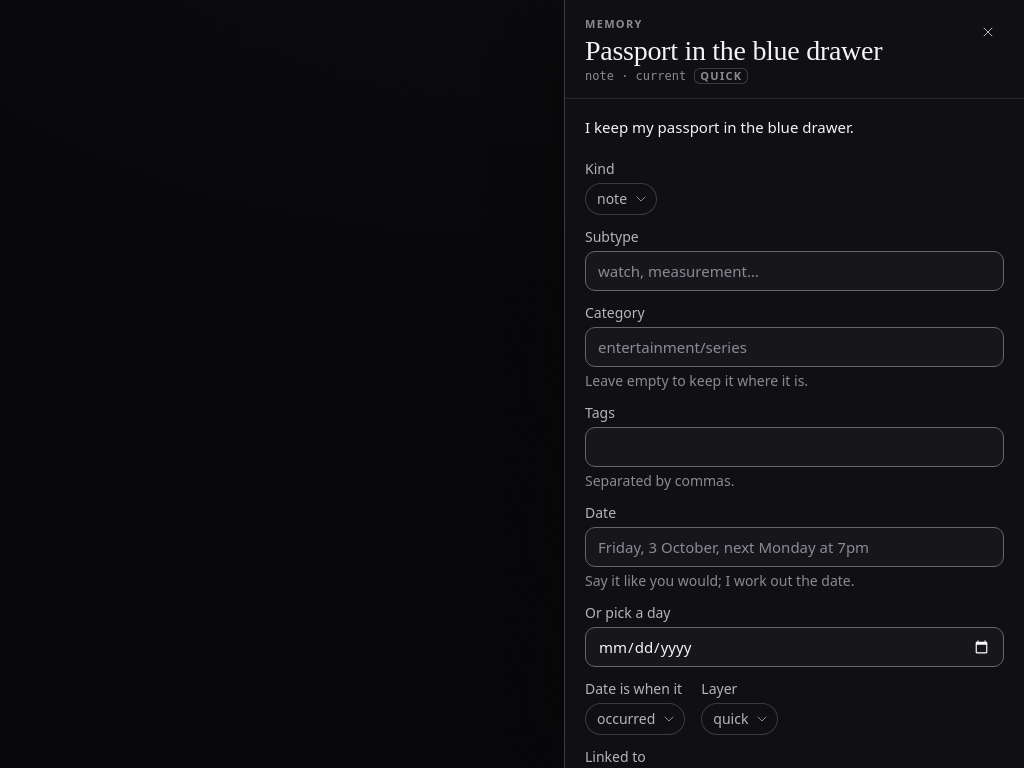
Scenario: the memory editor's Save › stays open and says why when the turn was stored as failed
Step 1. Type "documents" into the field labelled "Category" → [794, 347], box top-left (585, 327), bottom-right (1004, 367)
(page scrolled)
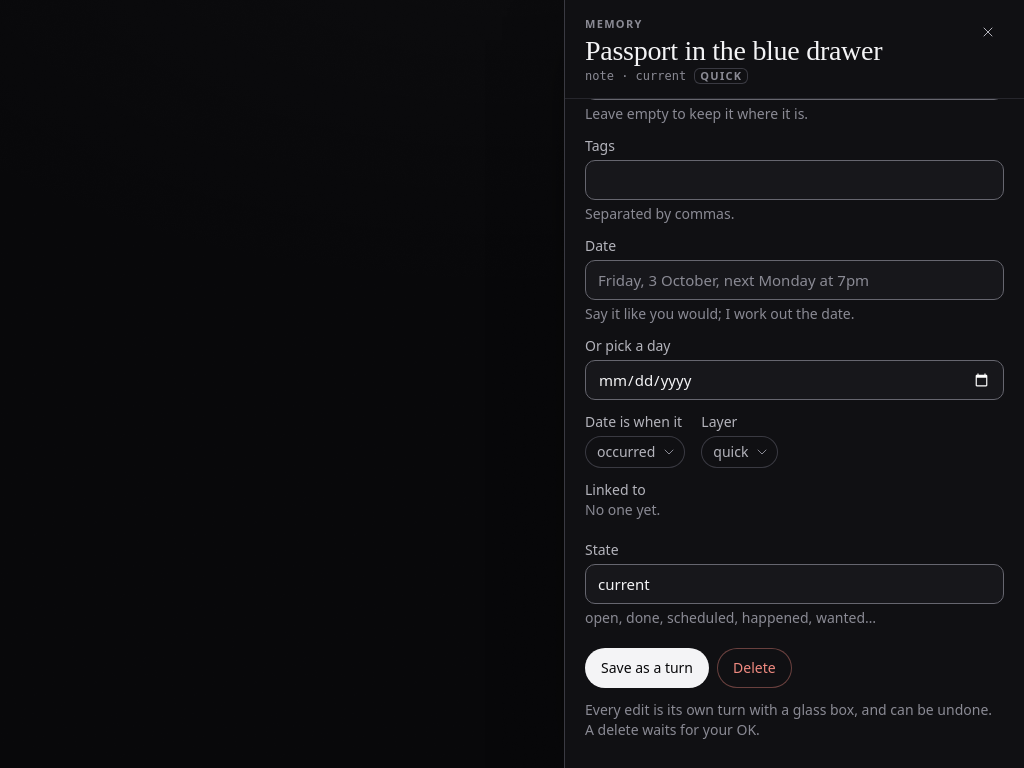
Step 2. Click the button with test id "edit-save" → [647, 668], box top-left (585, 648), bottom-right (709, 688)
(page scrolled)
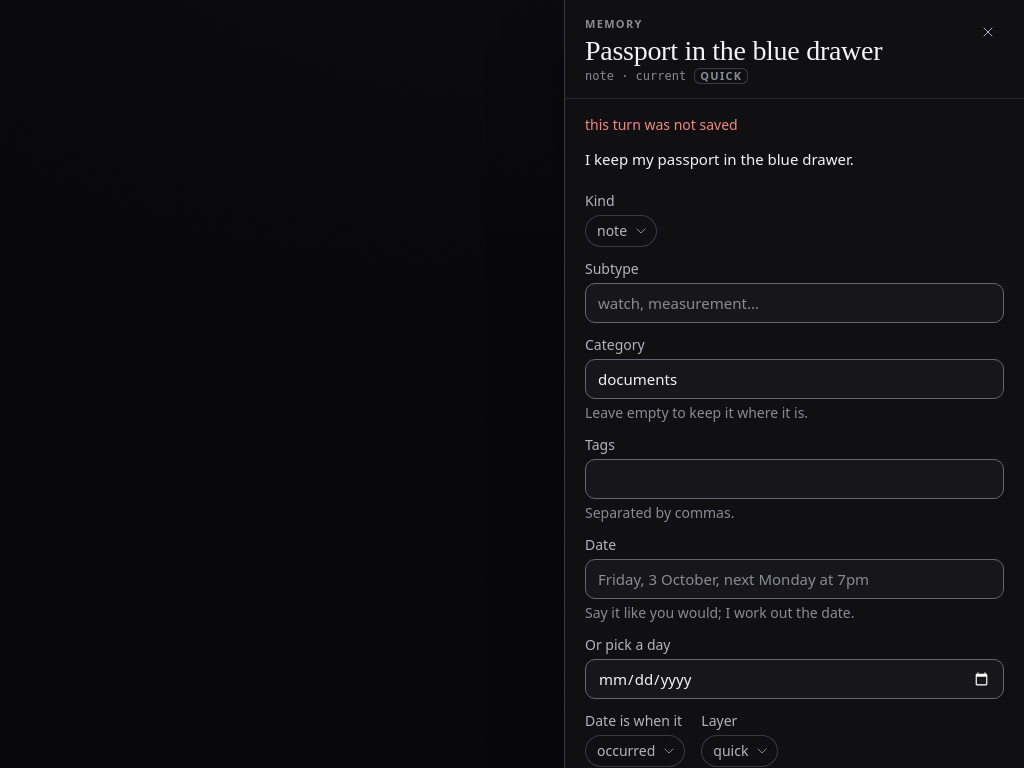
expect the message reads "this turn was not saved": met, box top-left (585, 115), bottom-right (738, 134)
